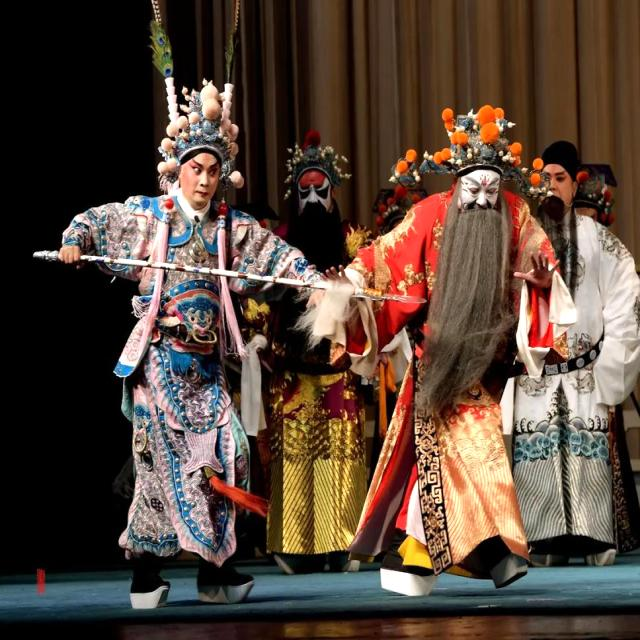Reeves-s Pheasant: (149, 0, 173, 77), (225, 0, 241, 81)
